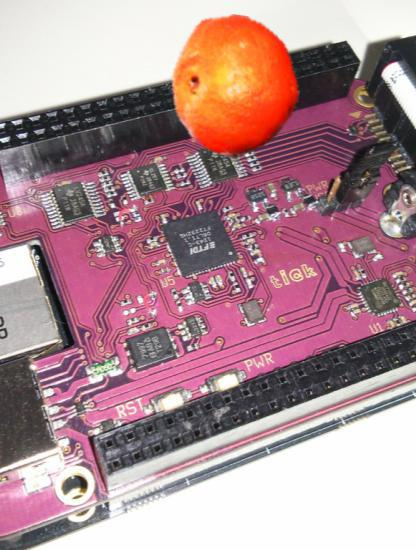Clementine: (161, 15, 309, 163)
